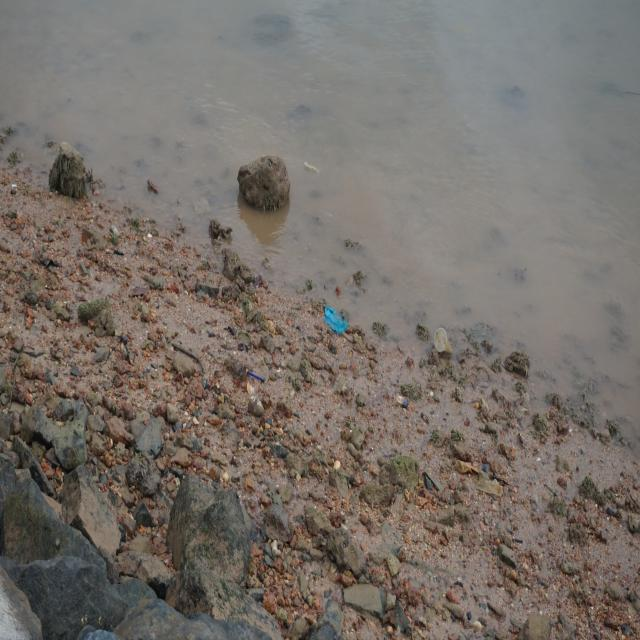Kantong Plastik: (324, 303, 350, 337)
